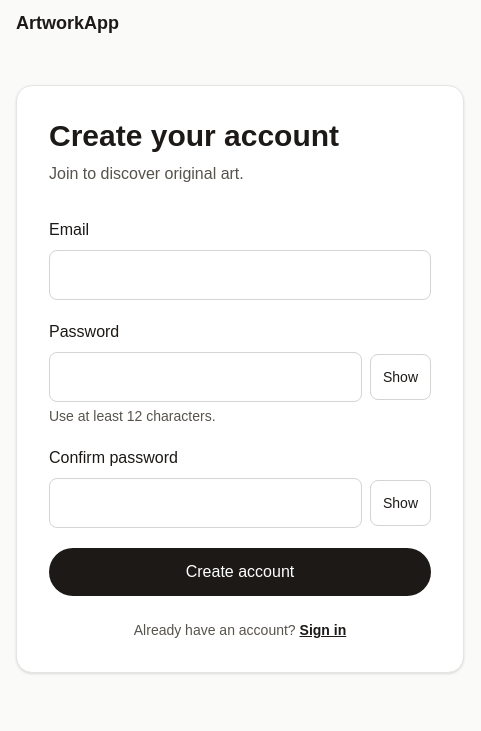
Scenario: email authentication › handles EMAIL_ALREADY_EXISTS without showing server details
The image size is (481, 731).
Type "person@example.com" into the field labelled "Email".
click(240, 275); type("person@example.com")  # box x1=49 y1=250 x2=431 y2=300
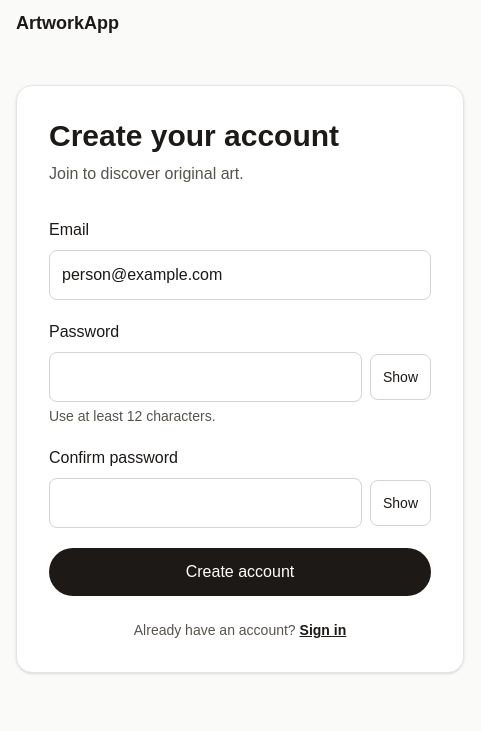
Type "long-password-123" into the password field labelled "Password".
click(206, 377); type("long-password-123")  # box x1=49 y1=352 x2=362 y2=402
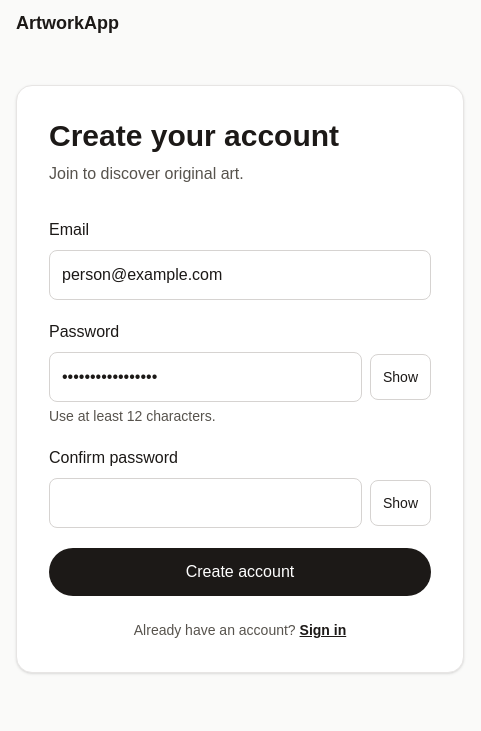
Type "long-password-123" into the password field labelled "Confirm password".
click(206, 503); type("long-password-123")  # box x1=49 y1=478 x2=362 y2=528
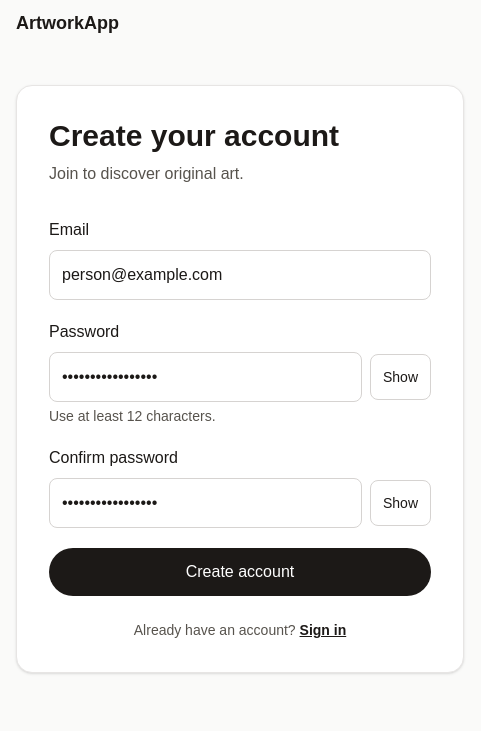
Click the button "Create account".
click(240, 572)  # box x1=49 y1=548 x2=431 y2=596
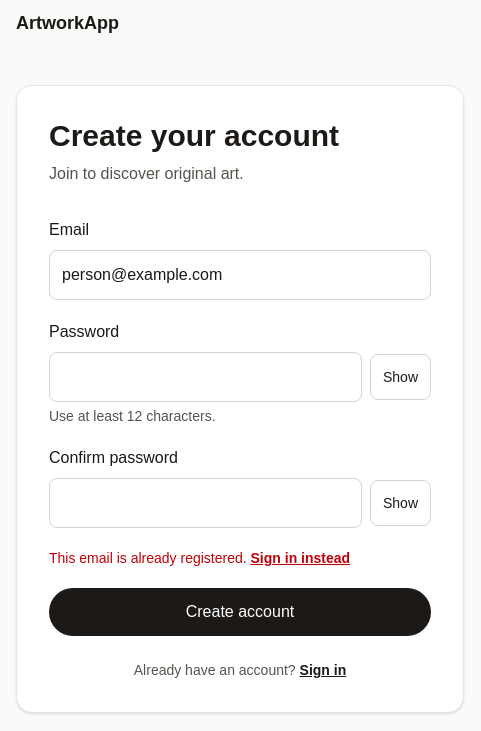
Expected: the message shows "This email is already registered.", x1=49 y1=550 x2=247 y2=566
